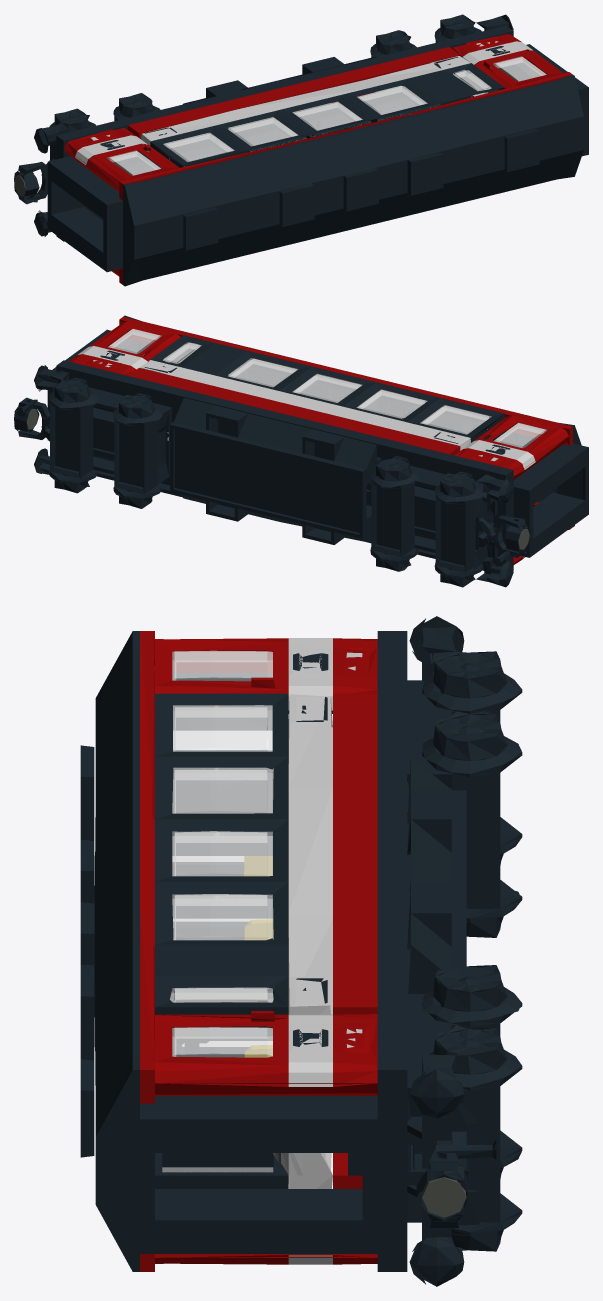
File: coach.glb
3 views of the same model, one above another, from view 1: azimuth 30°, elevation 25°; view 2: azimuth 150°, elevation 25°; view 3: azimuth 270°, elevation 25° (orthographic). The views are drawn at different scales.
Size of the model in its own units: 251 by 51.8 by 95.2.
